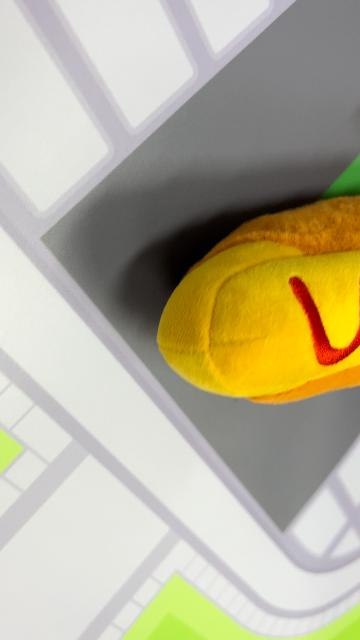hotdog: (156, 194, 358, 406)
